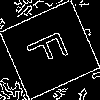F: (24, 24, 78, 71)
